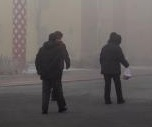person: (34, 32, 72, 114), (99, 31, 131, 105), (50, 30, 70, 101)
